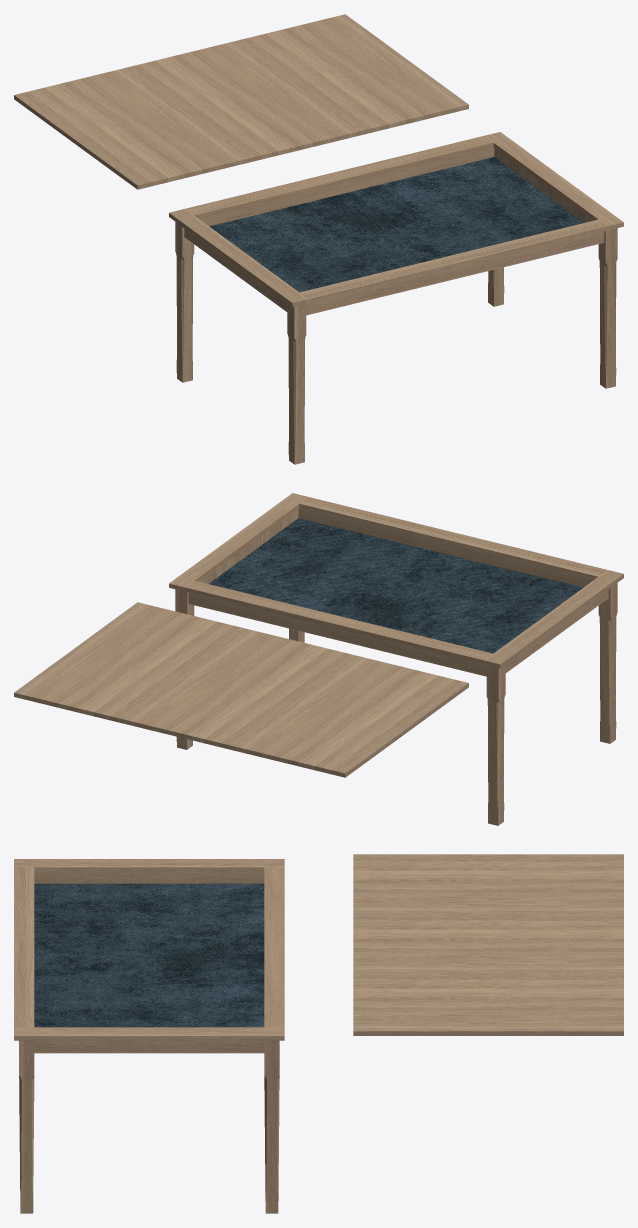
File: Midgard.glb
3 views of the same model, one above another, from view 1: azimuth 30°, elevation 25°; view 2: azimuth 150°, elevation 25°; view 3: azimuth 270°, elevation 25° (orthographic). The views are drawn at different scales.
Parts seen in each view (by area): view 1: root; view 2: root; view 3: root.
Part boxes in pixels (x1=…): root: x1=14, y1=14, x2=623, y2=464; root: x1=14, y1=493, x2=623, y2=825; root: x1=14, y1=854, x2=623, y2=1213.
Bounding box in the file's own units: 1.64 × 0.8 × 2.39.
4 materials, 2 textured.
